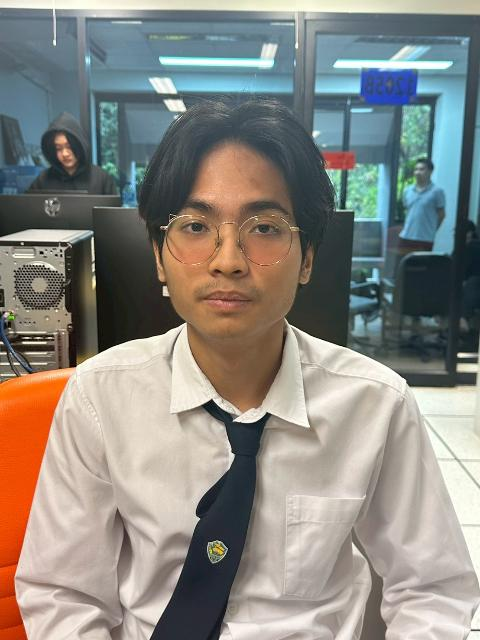fokus: (159, 114, 300, 342)
